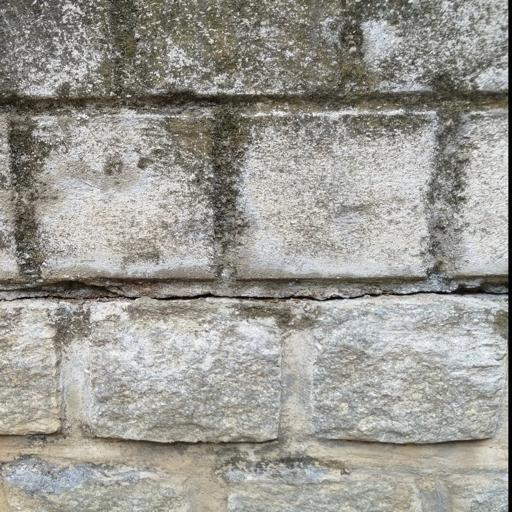major_crack: (0, 237, 509, 321)
